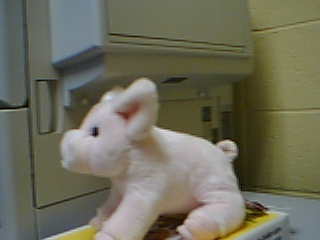piggy: (58, 76, 250, 240)
